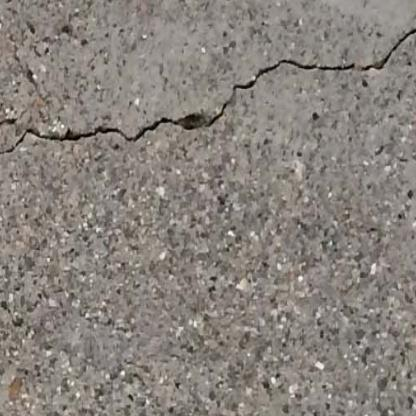Cracks: (230, 19, 416, 95), (0, 102, 230, 160), (0, 113, 21, 139)
